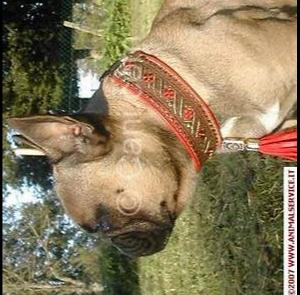dog: (5, 0, 296, 257)
